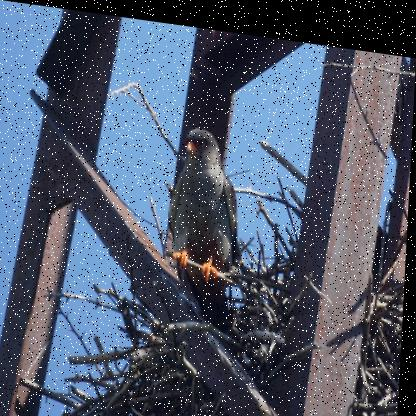Burung: (165, 117, 251, 329)
